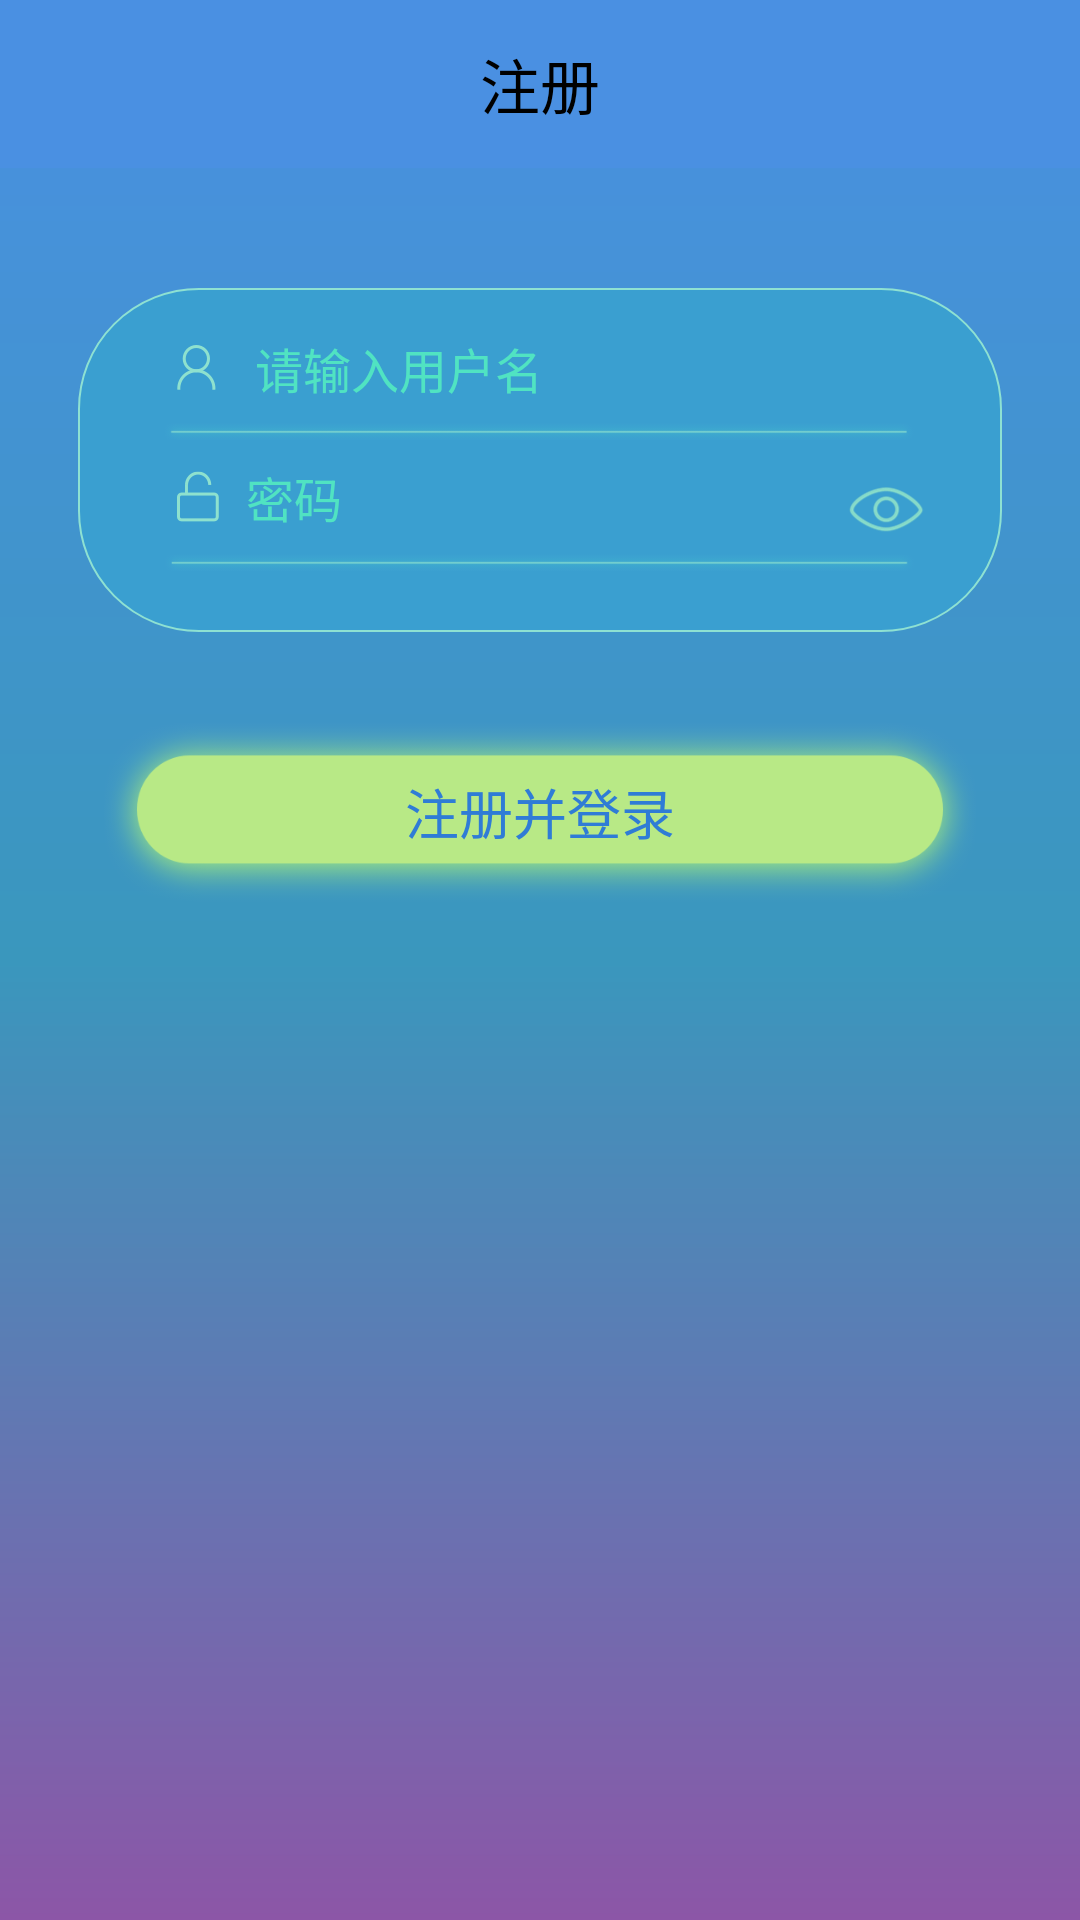

Icon bounding boxes for this 1080w x 1920h phone screenshot, format bbox=[x1, y1, x2, y2]:
eye: bbox=[850, 487, 923, 531]
